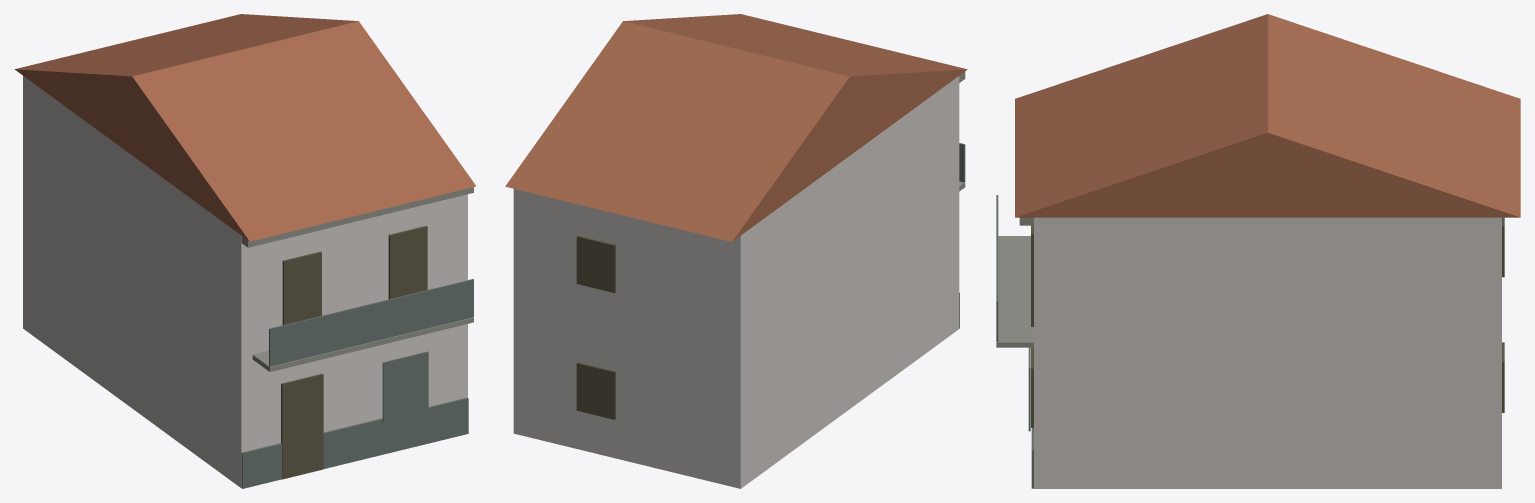
The model's file is SM_casa_pueblo_v5_LOD0.fbx.
3 views of the same model, side by side, from view 1: azimuth 30°, elevation 25°; view 2: azimuth 150°, elevation 25°; view 3: azimuth 270°, elevation 25° (orthographic). The views are drawn at different scales.
Parts seen in each view (by area): view 1: SM_casa_pueblo_v5_LOD0; view 2: SM_casa_pueblo_v5_LOD0; view 3: SM_casa_pueblo_v5_LOD0.
Boxes of the visible parts, x1=… form: SM_casa_pueblo_v5_LOD0: x1=15, y1=14, x2=475, y2=488; SM_casa_pueblo_v5_LOD0: x1=505, y1=14, x2=967, y2=488; SM_casa_pueblo_v5_LOD0: x1=996, y1=14, x2=1520, y2=488.
Bounding box in the file's own units: 6 × 8.4 × 11.2.
